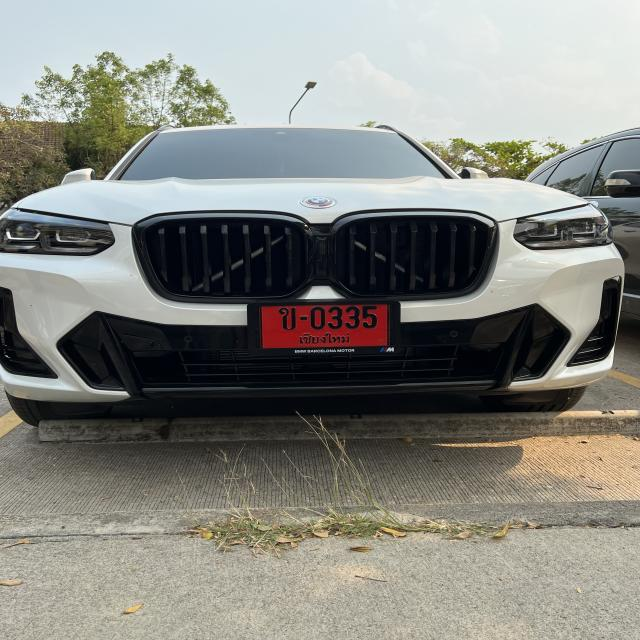license_plate: (245, 300, 400, 356)
